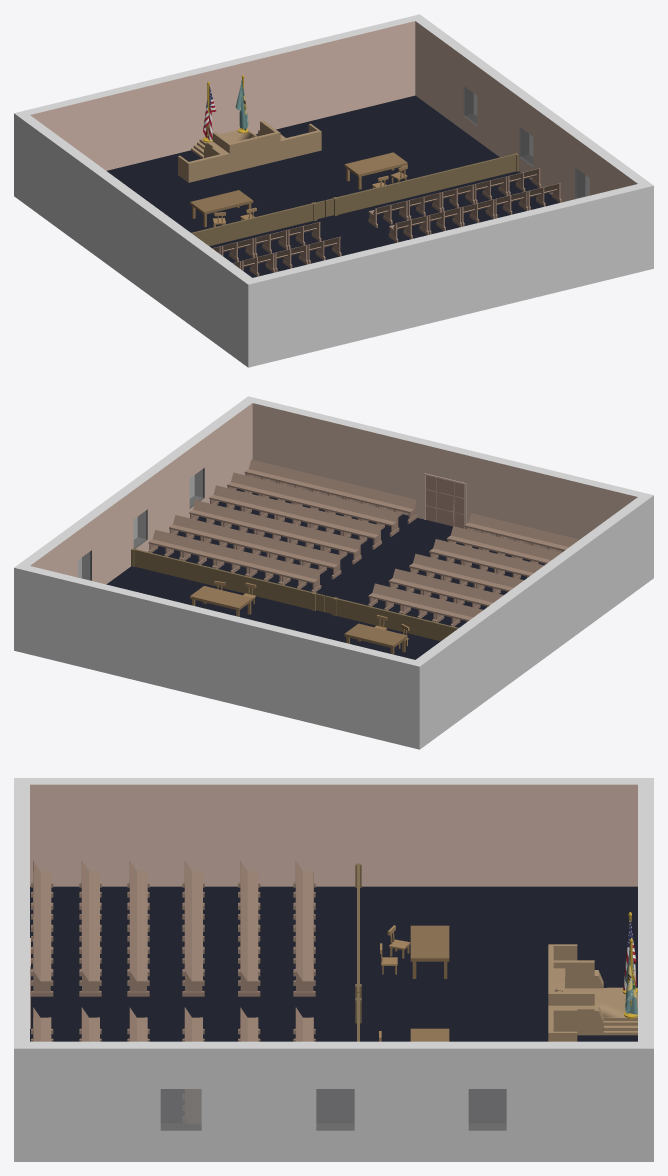
File: MenuScene 1.fbx
The picture shows the model from 3 angles, top to bottom: view 1: azimuth 30°, elevation 25°; view 2: azimuth 150°, elevation 25°; view 3: azimuth 270°, elevation 25°; orthographic projection. The views are drawn at different scales.
Parts seen in each view (by area): view 1: Cube, Cube.001, Cube.007, Cube.009, Cube.008, Cube.034, Cube.039; view 2: Cube, Cube.001, Cube.009, Cube.008, Cube.039, Cube.029, Cube.034, Cube.024, Cube.042, Cube.046, Cube.044, Cube.019 (+40 smaller); view 3: Cube, Cube.007, Cube.009, Cube.059, Cube.054, Cube.044, Cube.064, Cube.049, Cube.069, Cube.001, Cylinder, Cube.008.
Boxes of the visible parts, x1,y1,x2,y2 form: Cube: [14, 14, 653, 367]; Cube.001: [191, 153, 518, 246]; Cube.007: [178, 120, 321, 182]; Cube.009: [190, 190, 253, 227]; Cube.008: [344, 152, 407, 189]; Cube.034: [388, 215, 428, 242]; Cube.039: [368, 200, 408, 227]; Cube: [14, 396, 653, 749]; Cube.001: [131, 548, 458, 641]; Cube.009: [344, 623, 407, 654]; Cube.008: [190, 586, 252, 616]; Cube.039: [280, 562, 321, 592]; Cube.029: [321, 532, 361, 564]; Cube.034: [301, 547, 341, 579]; Cube.024: [341, 517, 381, 549]; Cube.042: [214, 546, 254, 576]; Cube.046: [401, 591, 440, 621]; Cube.044: [368, 583, 407, 613]; Cube.019: [359, 505, 399, 536]; Cube: [14, 778, 653, 1161]; Cube.007: [548, 944, 637, 1041]; Cube.009: [410, 925, 449, 978]; Cube.059: [127, 949, 149, 996]; Cube.054: [182, 949, 204, 996]; Cube.044: [293, 949, 315, 996]; Cube.064: [79, 949, 101, 996]; Cube.049: [238, 949, 260, 996]; Cube.069: [31, 949, 53, 996]; Cube.001: [355, 863, 361, 1041]; Cylinder: [624, 938, 637, 1018]; Cube.008: [410, 1028, 449, 1041].
Bounding box in the file's own units: 4989 × 975 × 4989.
